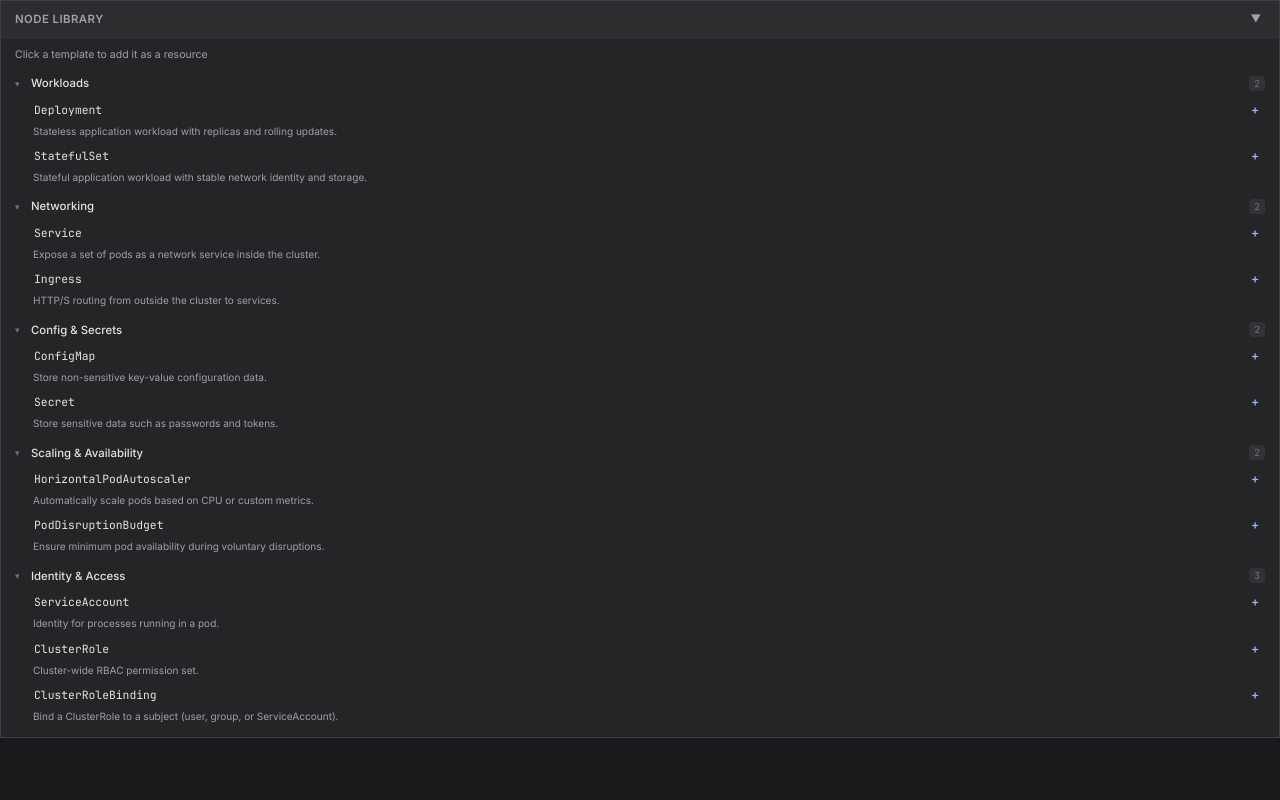
NodeLibrary › collapses the entire panel when collapse button clicked
Check: the text "Click a template to add it as a resource" is shown, box x1=15 y1=48 x2=208 y2=61
# Click collapse
Step 1. Click the button titled "Collapse node library" → (1256, 20), box x1=1246 y1=12 x2=1265 y2=27
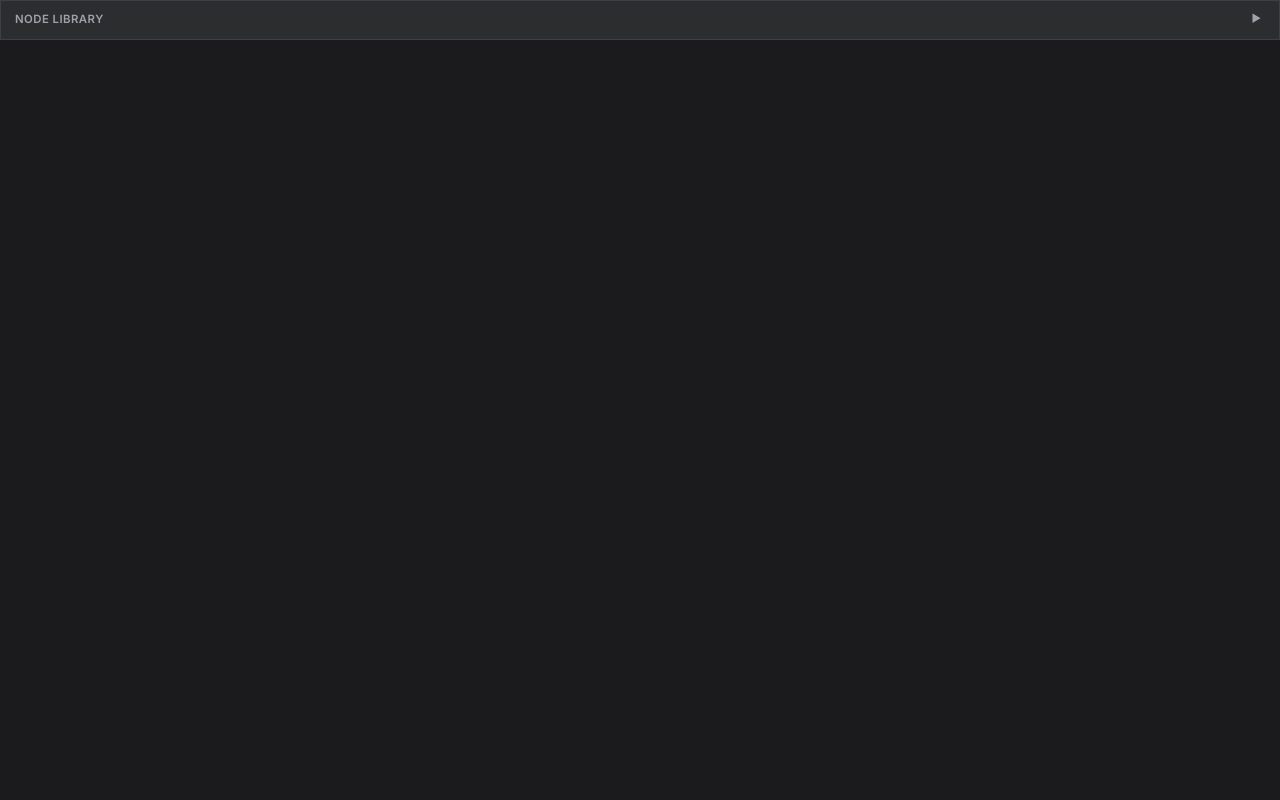
Check: the text "Click a template to add it as a resource" is gone
